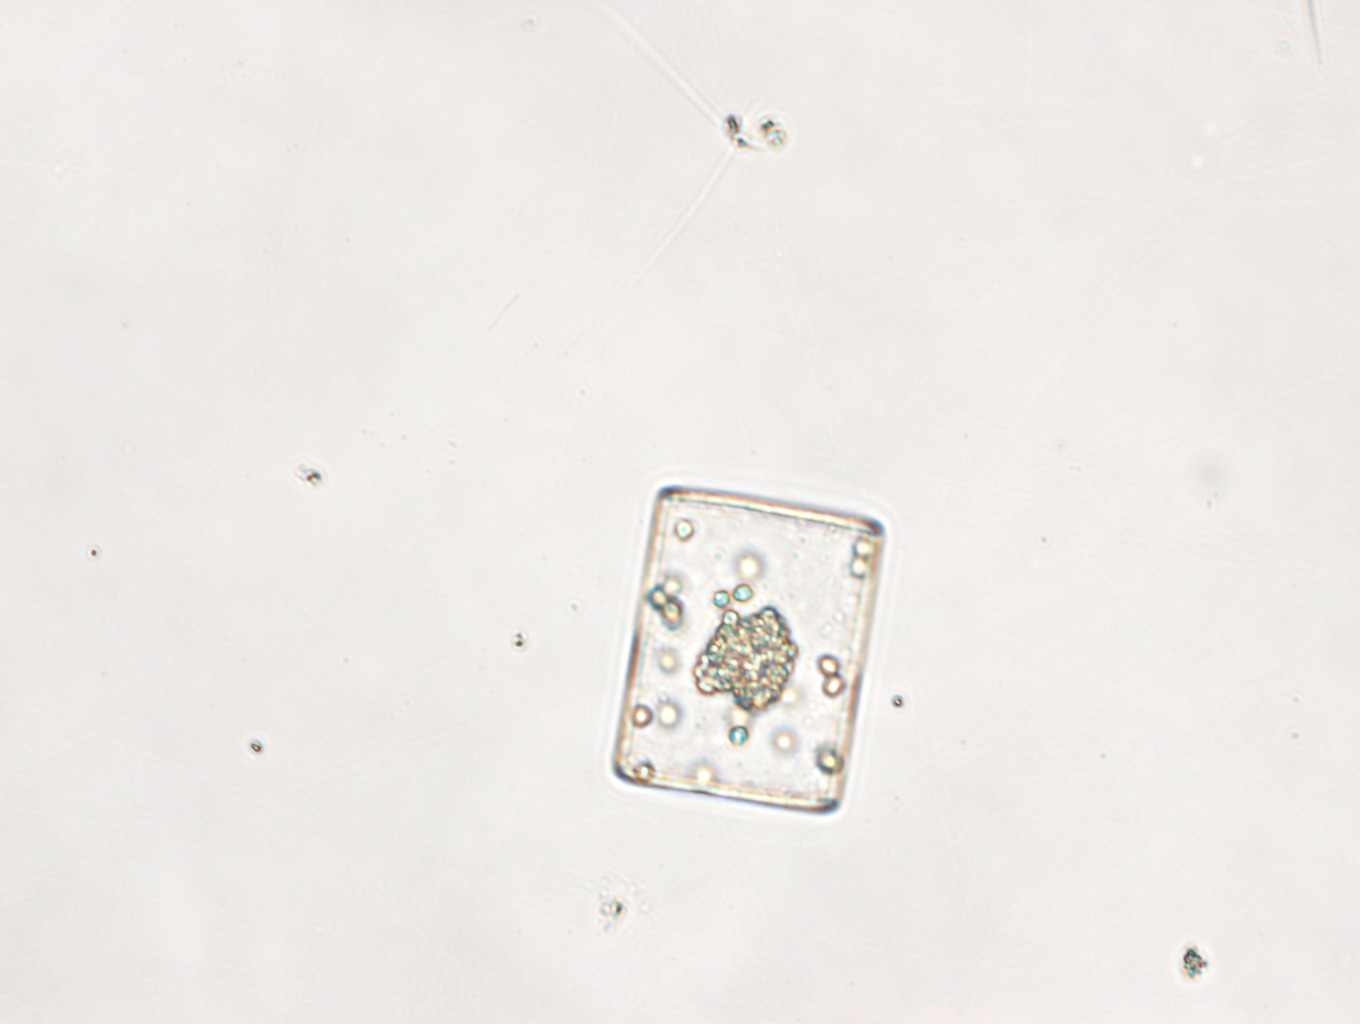chaetoceros: (596, 6, 790, 305)
guinardia flaccida: (607, 483, 886, 814)
